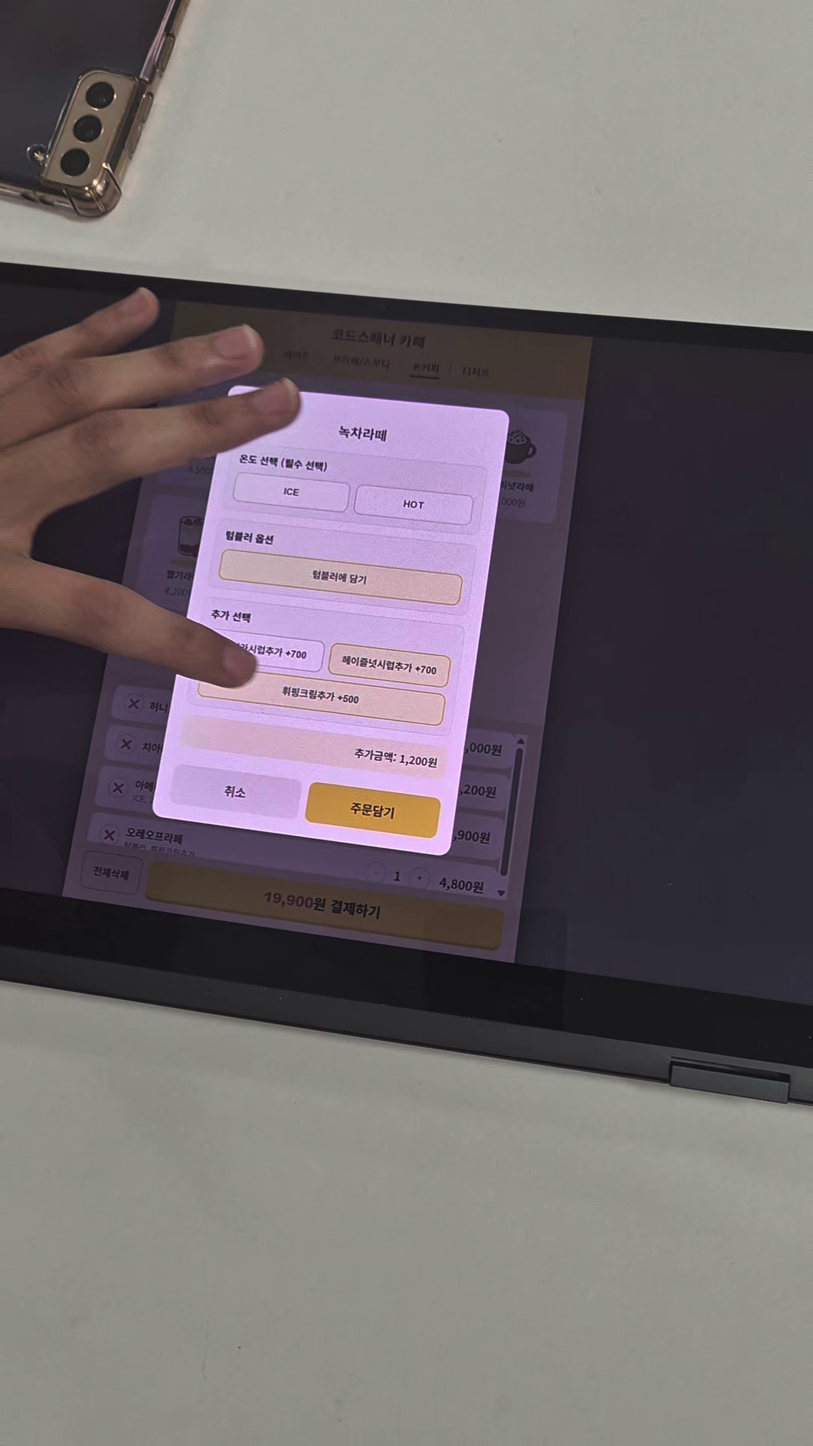action_button: (305, 781, 441, 839), (171, 763, 305, 821)
option_button: (198, 665, 446, 725), (217, 548, 461, 604), (327, 642, 450, 686), (202, 627, 326, 670), (234, 470, 350, 514), (353, 485, 473, 526)
popup_modal: (150, 385, 508, 855)
